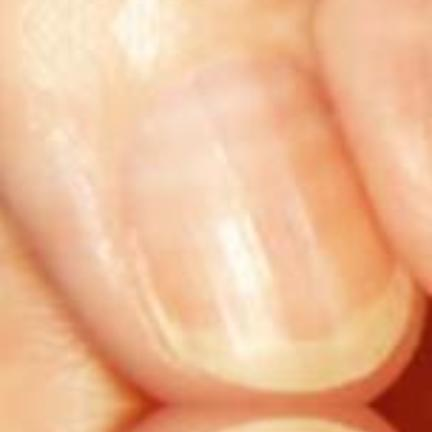Nail: (123, 51, 418, 392), (223, 418, 357, 432), (219, 0, 257, 3)
